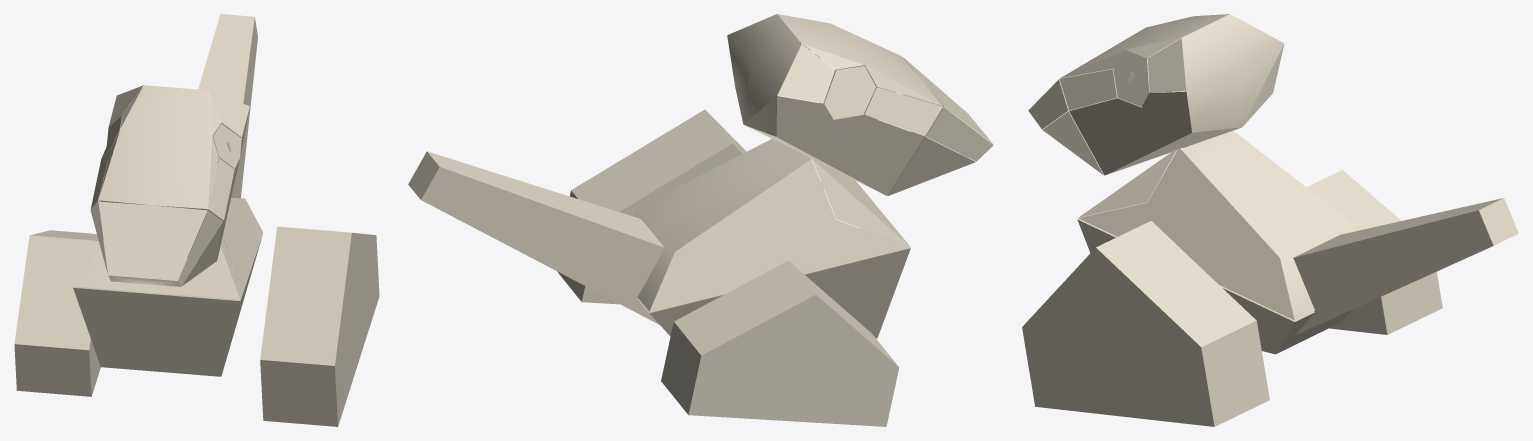
File: porygon.glb
The picture shows the model from 3 angles, left to right: view 1: azimuth 30°, elevation 25°; view 2: azimuth 150°, elevation 25°; view 3: azimuth 270°, elevation 25°; orthographic projection. The views are drawn at different scales.
Visible parts, largest first — view 1: Node; view 2: Node; view 3: Node.
Boxes of the visible parts, x1,y1,x2,y2 form: Node: (14,14,379,426); Node: (408,14,993,426); Node: (1022,14,1518,426).
Size of the model in its own units: 9.58 by 8.13 by 10.91.
